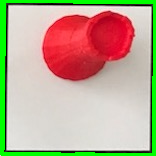Red Castle: (37, 8, 137, 86)
